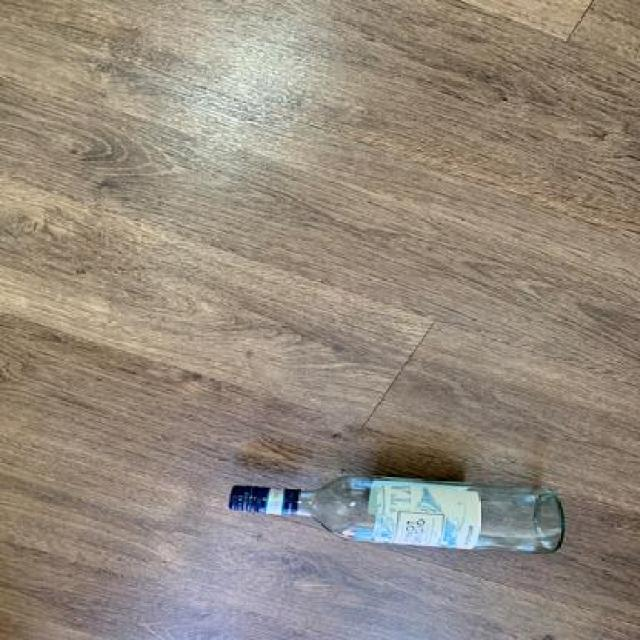trash: (207, 473, 571, 561)
